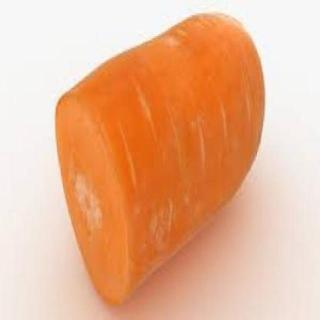carrot: (55, 10, 267, 306)
